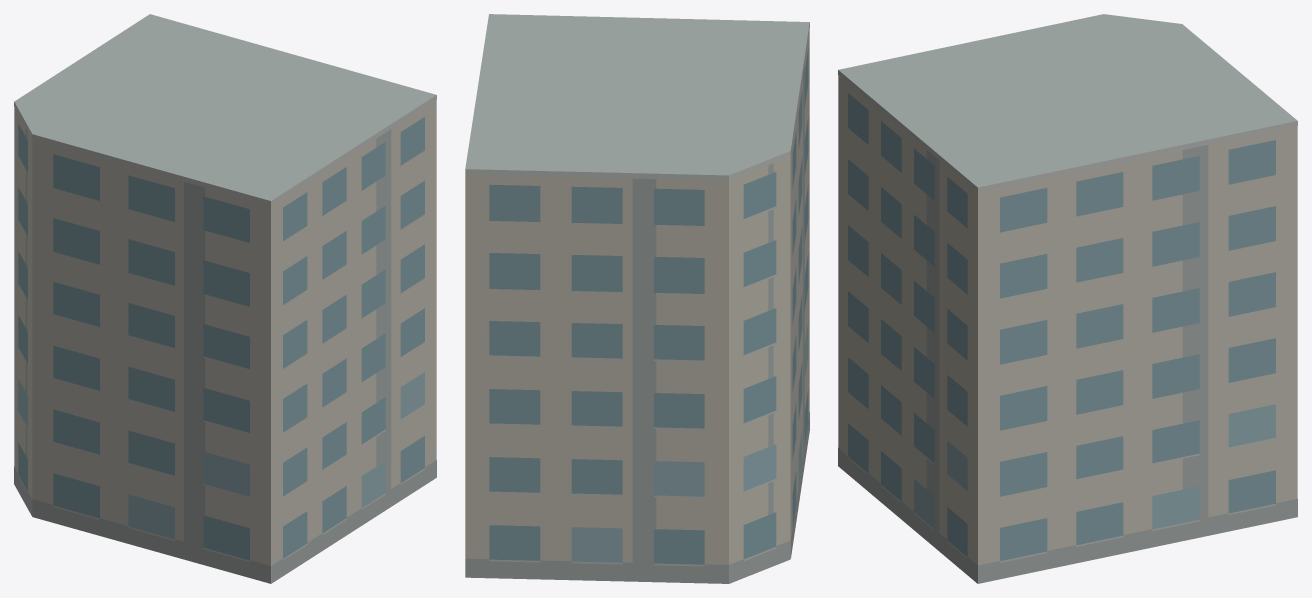
The model's file is survey-upis-32705975.glb.
3 renders of one model, left to right at view 1: azimuth 30°, elevation 25°; view 2: azimuth 150°, elevation 25°; view 3: azimuth 270°, elevation 25°, orthographic. The views are drawn at different scales.
Visible parts, largest first — view 1: survey-upis-32705975.tmp; view 2: survey-upis-32705975.tmp; view 3: survey-upis-32705975.tmp.
Part boxes in pixels (x1=…): survey-upis-32705975.tmp: x1=14, y1=14, x2=436, y2=583; survey-upis-32705975.tmp: x1=465, y1=14, x2=809, y2=583; survey-upis-32705975.tmp: x1=838, y1=14, x2=1297, y2=583.
Bounding box in the file's own units: 17.2 × 18.3 × 19.24.
